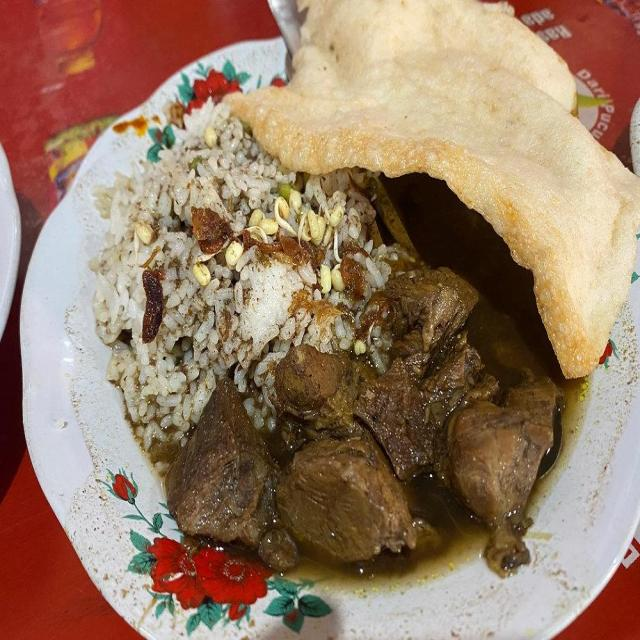Rawon: (121, 135, 552, 580)
